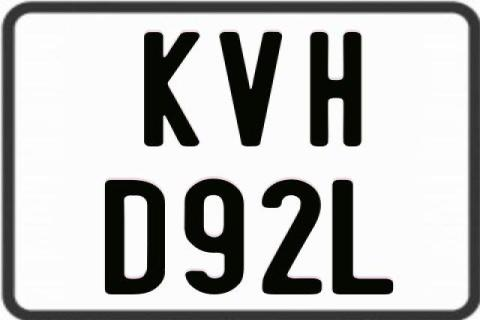0: (260, 177, 326, 297), (182, 177, 246, 297)
D: (104, 180, 170, 298)
H: (309, 29, 366, 149)
K: (142, 30, 203, 146)
L: (330, 180, 394, 298)
V: (219, 30, 284, 148)
